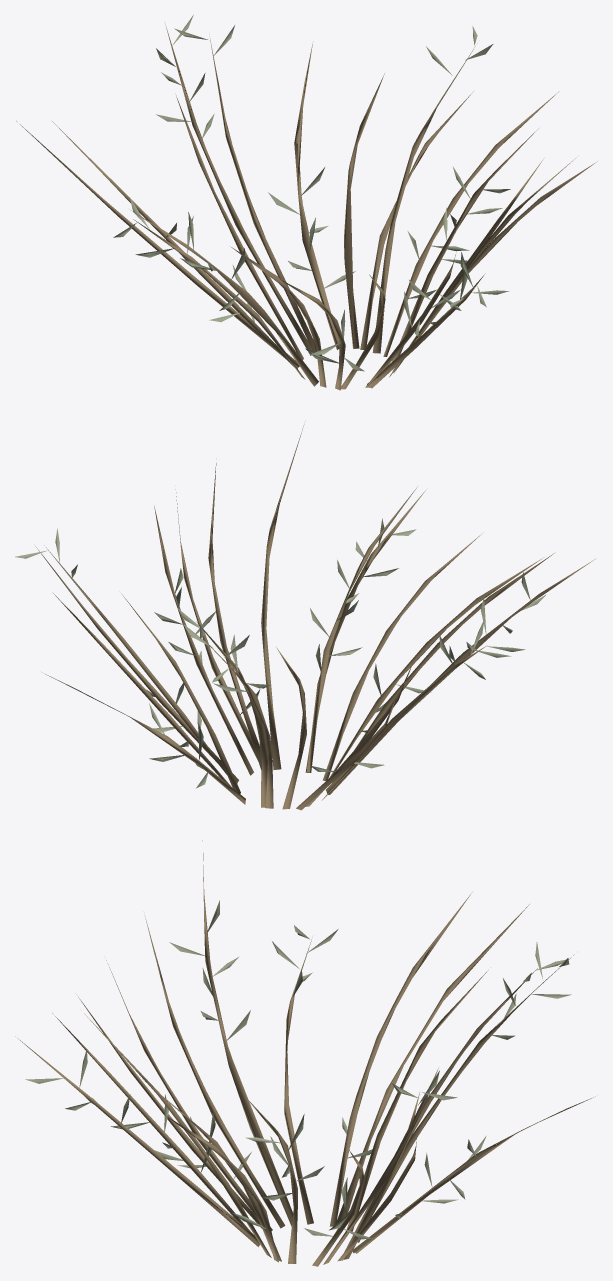
File: Immortelle_2_Niveau2.fbx
3 views of the same model, one above another, from view 1: azimuth 30°, elevation 25°; view 2: azimuth 150°, elevation 25°; view 3: azimuth 270°, elevation 25° (orthographic). The views are drawn at different scales.
Visible parts, largest first — view 1: Immortelle_2_Niveau2; view 2: Immortelle_2_Niveau2; view 3: Immortelle_2_Niveau2.
Boxes of the visible parts, <box> form: Immortelle_2_Niveau2: <box>16,15,597,390</box>; Immortelle_2_Niveau2: <box>15,424,596,810</box>; Immortelle_2_Niveau2: <box>15,840,595,1266</box>.
Size of the model in its own units: 55.46 by 28.92 by 54.49.
